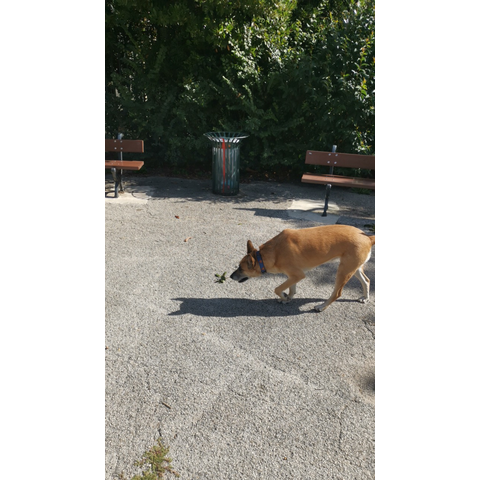poubelle: (199, 127, 251, 207)
